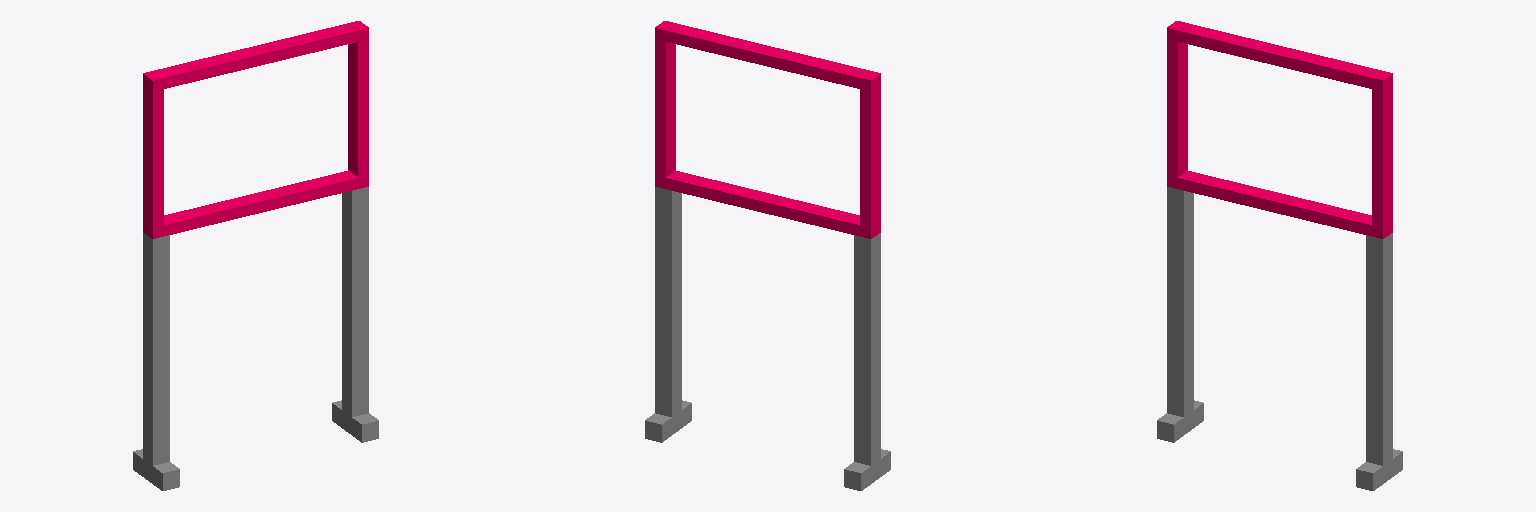
The robot description file, URDF, robot "race_gate":
<?xml version="1.0"?>
<robot name="race_gate">

  <!-- Ножки: статичны, серый цвет -->
  <link name="legs">
    <inertial>
      <origin xyz="0 0 0" rpy="0 0 0"/>
      <mass value="0"/>  <!-- статично -->
      <inertia ixx="1" ixy="0" ixz="0" iyy="1" iyz="0" izz="1"/>
    </inertial>
    <visual>
      <origin xyz="0 0 0" rpy="0 0 0"/>
      <geometry><mesh filename="gate_legs.dae" scale="1 1 1"/></geometry>
      <material name="legs_mat"><color rgba="0.6 0.6 0.6 1"/></material>
    </visual>
    <collision>
      <origin xyz="0 0 0" rpy="0 0 0"/>
      <geometry><mesh filename="gate_legs.dae" scale="1 1 1"/></geometry>
    </collision>
  </link>

  <!-- Верхняя рамка: отдельно красим (красный) -->
  <link name="top">
    <inertial>
      <origin xyz="0 0 0" rpy="0 0 0"/>
      <mass value="0"/>
      <inertia ixx="1" ixy="0" ixz="0" iyy="1" iyz="0" izz="1"/>
    </inertial>
    <visual>
      <origin xyz="0 0 0" rpy="0 0 0"/>
      <geometry><mesh filename="gate_top.dae" scale="1 1 1"/></geometry>
      <material name="top_mat"><color rgba="1 0 0.414452 1"/></material>
    </visual>
    <collision>
      <origin xyz="0 0 0" rpy="0 0 0"/>
      <geometry><mesh filename="gate_top.dae" scale="1 1 1"/></geometry>
    </collision>
  </link>

  <!-- Склеиваем без смещений: обе части уже содержат одинаковые трансформации из DAE -->
  <joint name="top_fixed" type="fixed">
    <parent link="legs"/>
    <child link="top"/>
    <origin xyz="0 0 0" rpy="0 0 0"/>
  </joint>
</robot>

--- Facts derived from the render (not from the file) ---
The picture shows the robot from 3 angles, left to right: view 1: azimuth 30°, elevation 25°; view 2: azimuth 150°, elevation 25°; view 3: azimuth 330°, elevation 25°; orthographic projection.
Robot: race_gate — 2 links, 1 joints (1 fixed); root link legs; default pose: every joint at zero.
Links seen in each view (by area): view 1: top, legs; view 2: top, legs; view 3: top, legs.
Boxes of the visible links, bbox=[...] form: top: bbox=[143, 21, 368, 238]; legs: bbox=[133, 187, 378, 490]; top: bbox=[655, 21, 880, 238]; legs: bbox=[645, 187, 890, 490]; top: bbox=[1167, 21, 1392, 238]; legs: bbox=[1157, 187, 1402, 490].
Bounding box of the posed robot: 1 × 0.24 × 1.78 m (x, y, z).
2 mesh visuals loaded from 2 distinct referenced files (2 Collada DAE).